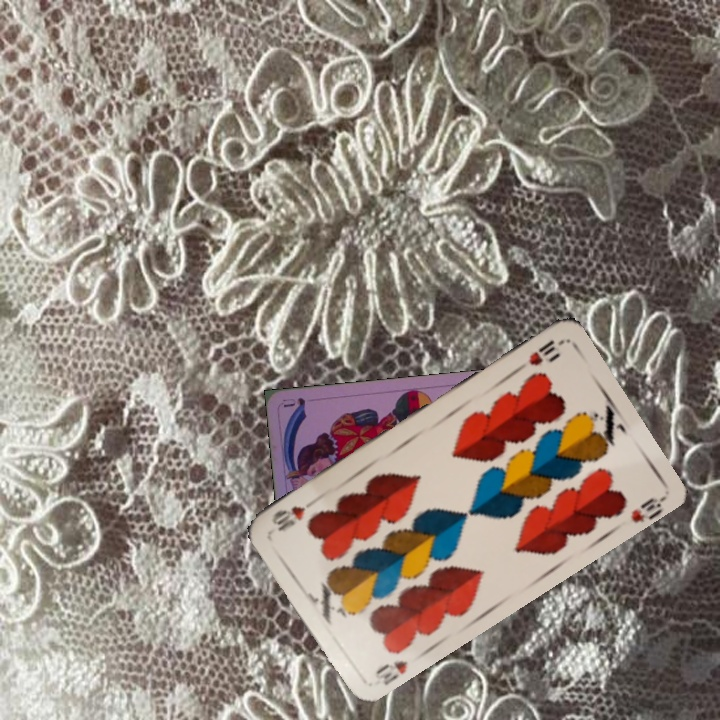H10: (512, 335, 558, 375), (370, 656, 411, 689)
